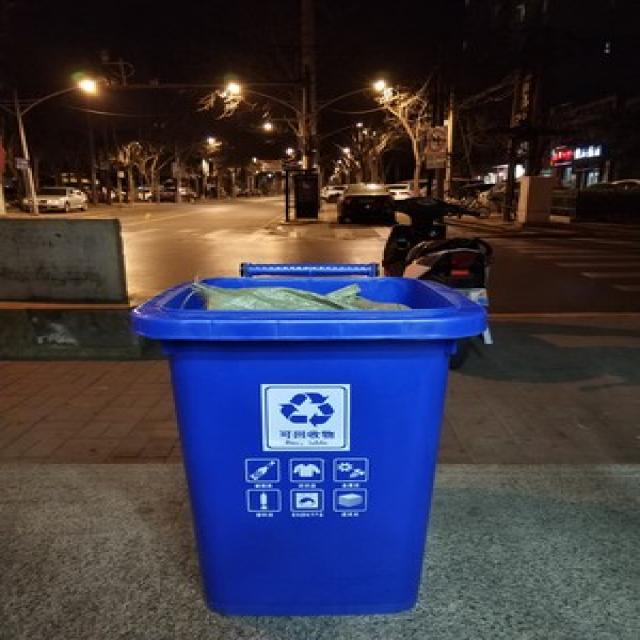ash bin: (124, 262, 493, 616)
car: (19, 184, 88, 211)
motorbike: (367, 193, 497, 370)
